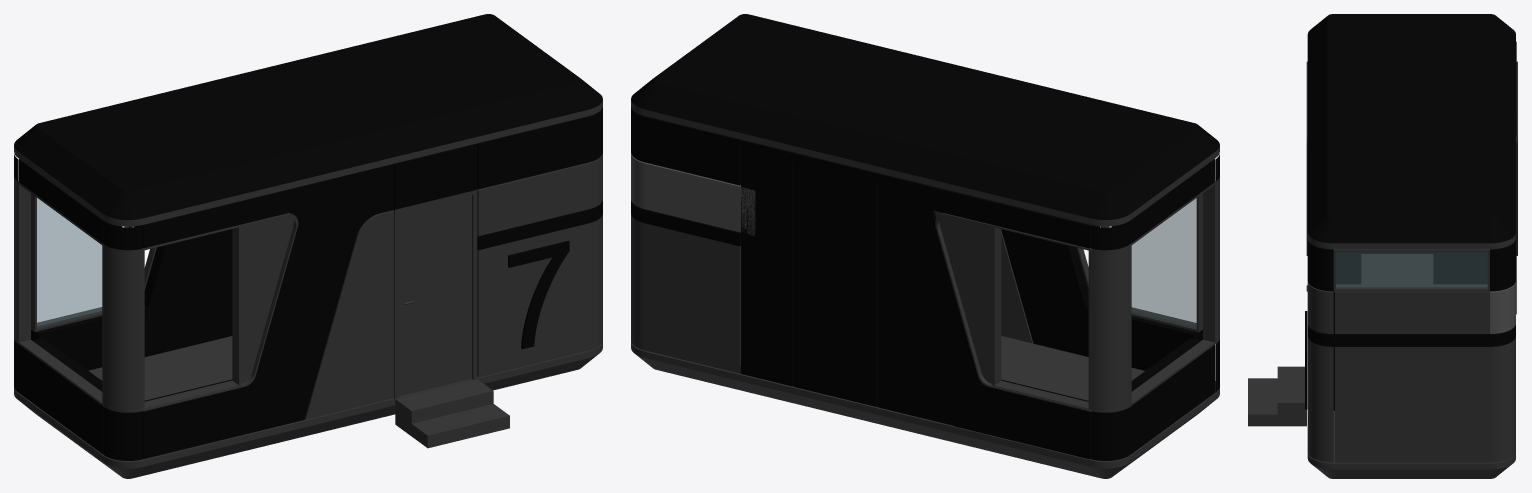
The model's file is pod-model.glb.
The picture shows the model from 3 angles, left to right: view 1: azimuth 30°, elevation 25°; view 2: azimuth 150°, elevation 25°; view 3: azimuth 270°, elevation 25°; orthographic projection. The views are drawn at different scales.
Bounding box in the file's own units: 6.1 × 3.38 × 3.16.
